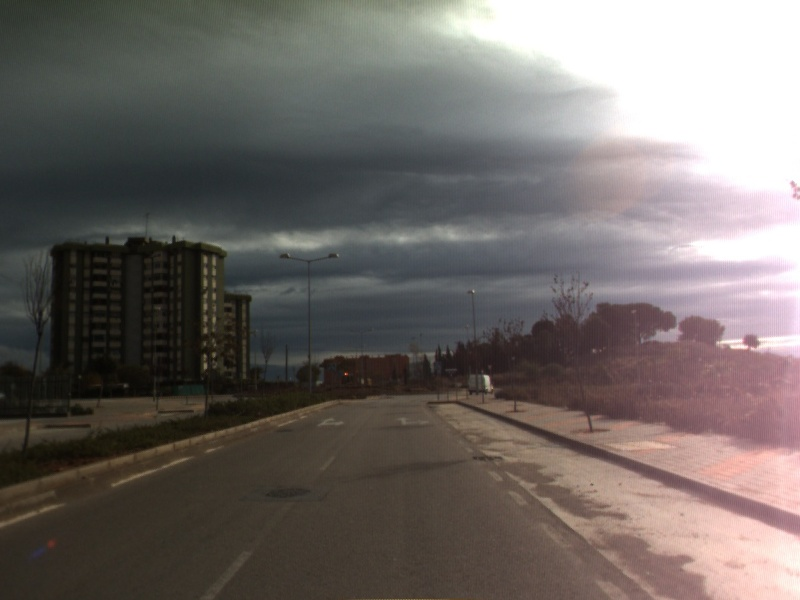STRAIGHT_RIGHT: (395, 415, 431, 428), (314, 415, 346, 428)
